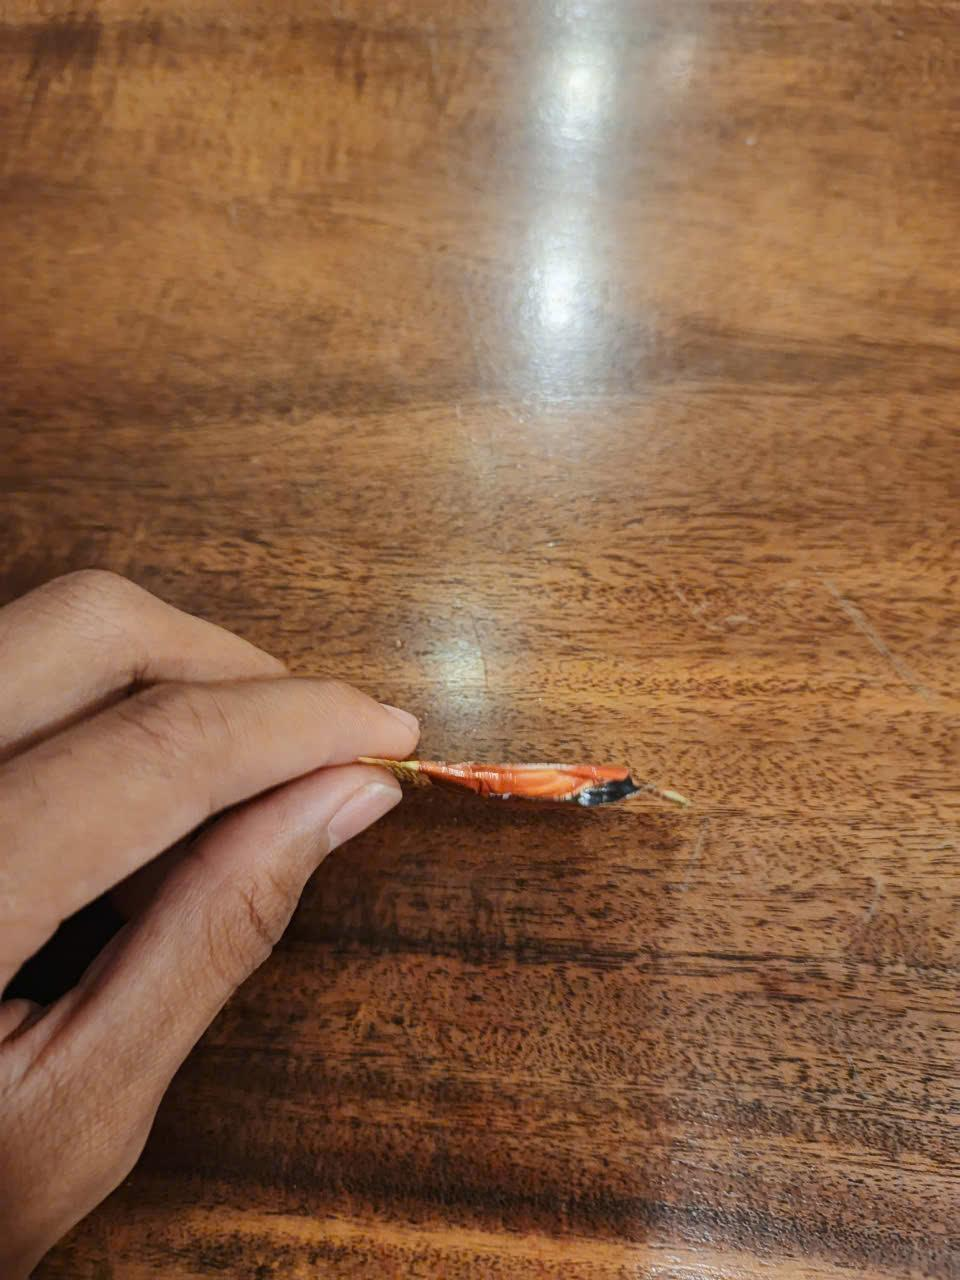Con lai: (360, 748, 694, 820)
